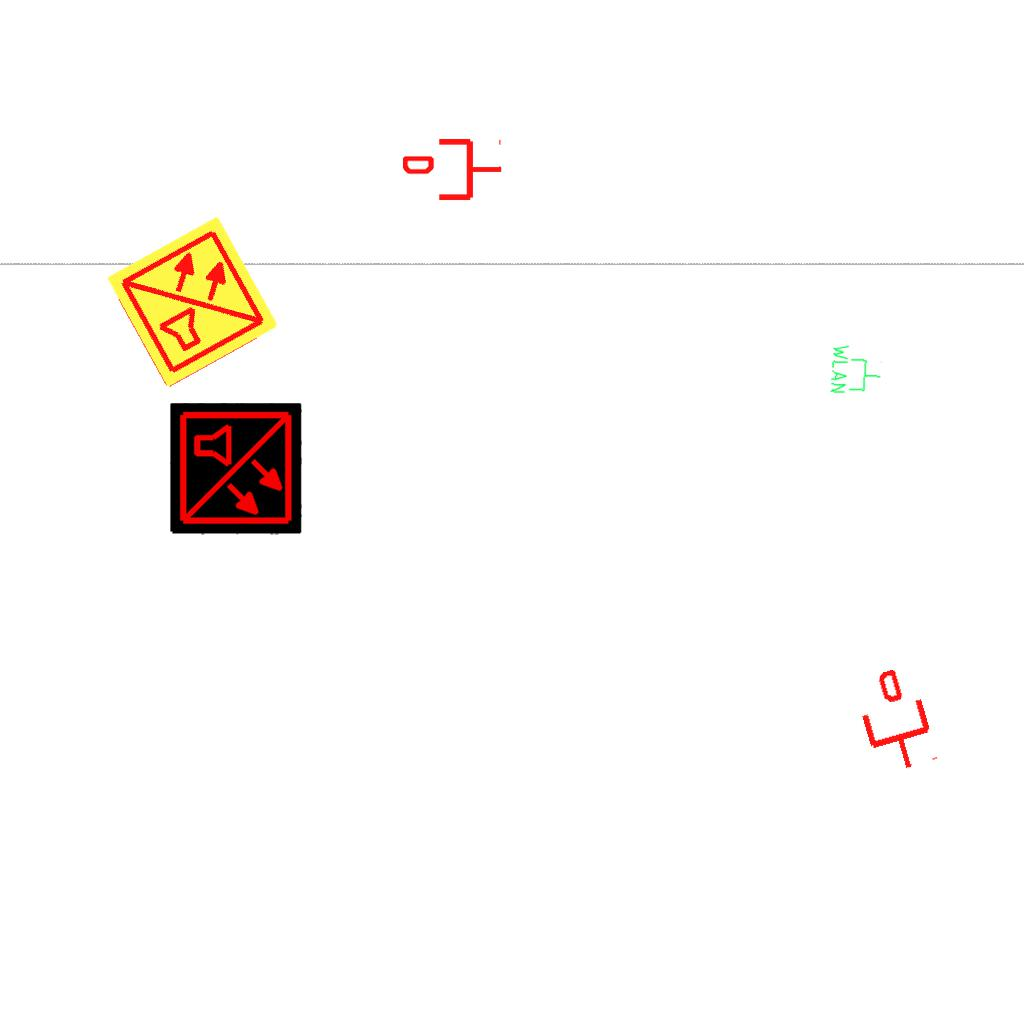Datenanschluss_einfach: (848, 663, 943, 779), (403, 135, 503, 204)
OKW_Multisensormelder_(Kombination_optischer_Rauch-Kahlenmonoxid_Waerme-Melder): (103, 212, 283, 392), (170, 403, 302, 535)
WLAN: (828, 342, 884, 398)
